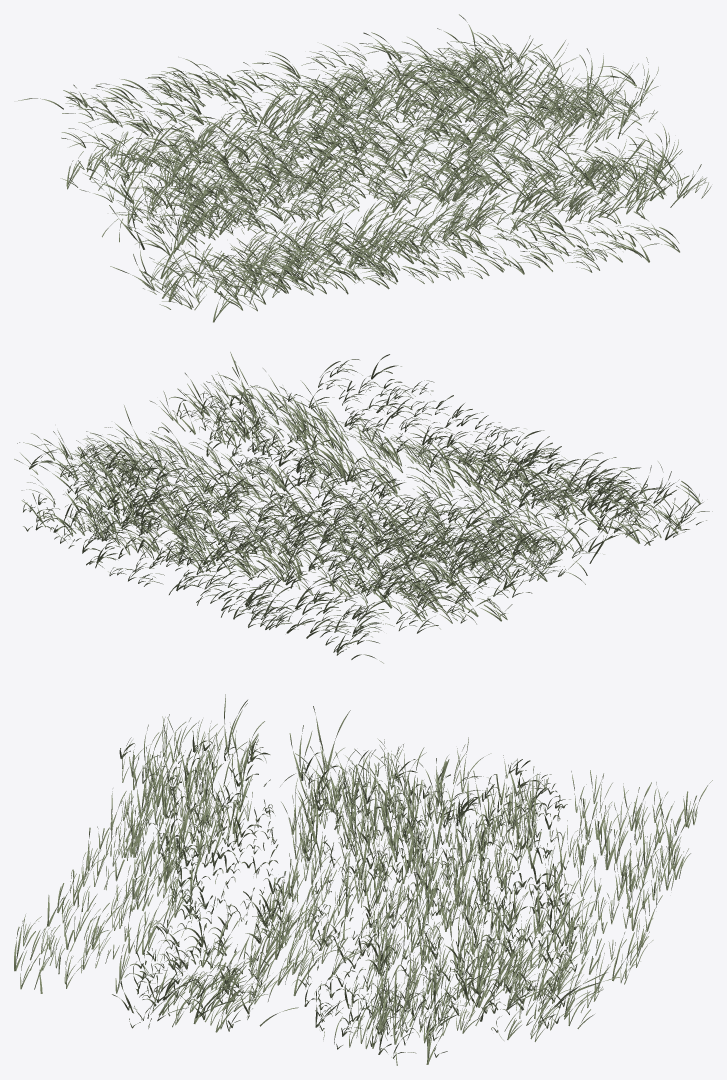
File: largeGrassPatch3.fbx
3 renders of one model, top to bottom at view 1: azimuth 30°, elevation 25°; view 2: azimuth 150°, elevation 25°; view 3: azimuth 270°, elevation 25°, orthographic. The views are drawn at different scales.
Parts seen in each view (by area): view 1: grassCarpet2Main; view 2: grassCarpet2Main; view 3: grassCarpet2Main.
Boxes of the visible parts, <box> form: grassCarpet2Main: <box>18,14,711,322</box>; grassCarpet2Main: <box>14,352,712,663</box>; grassCarpet2Main: <box>14,694,712,1065</box>.
Size of the model in its own units: 11.96 by 0.9123 by 10.34.
